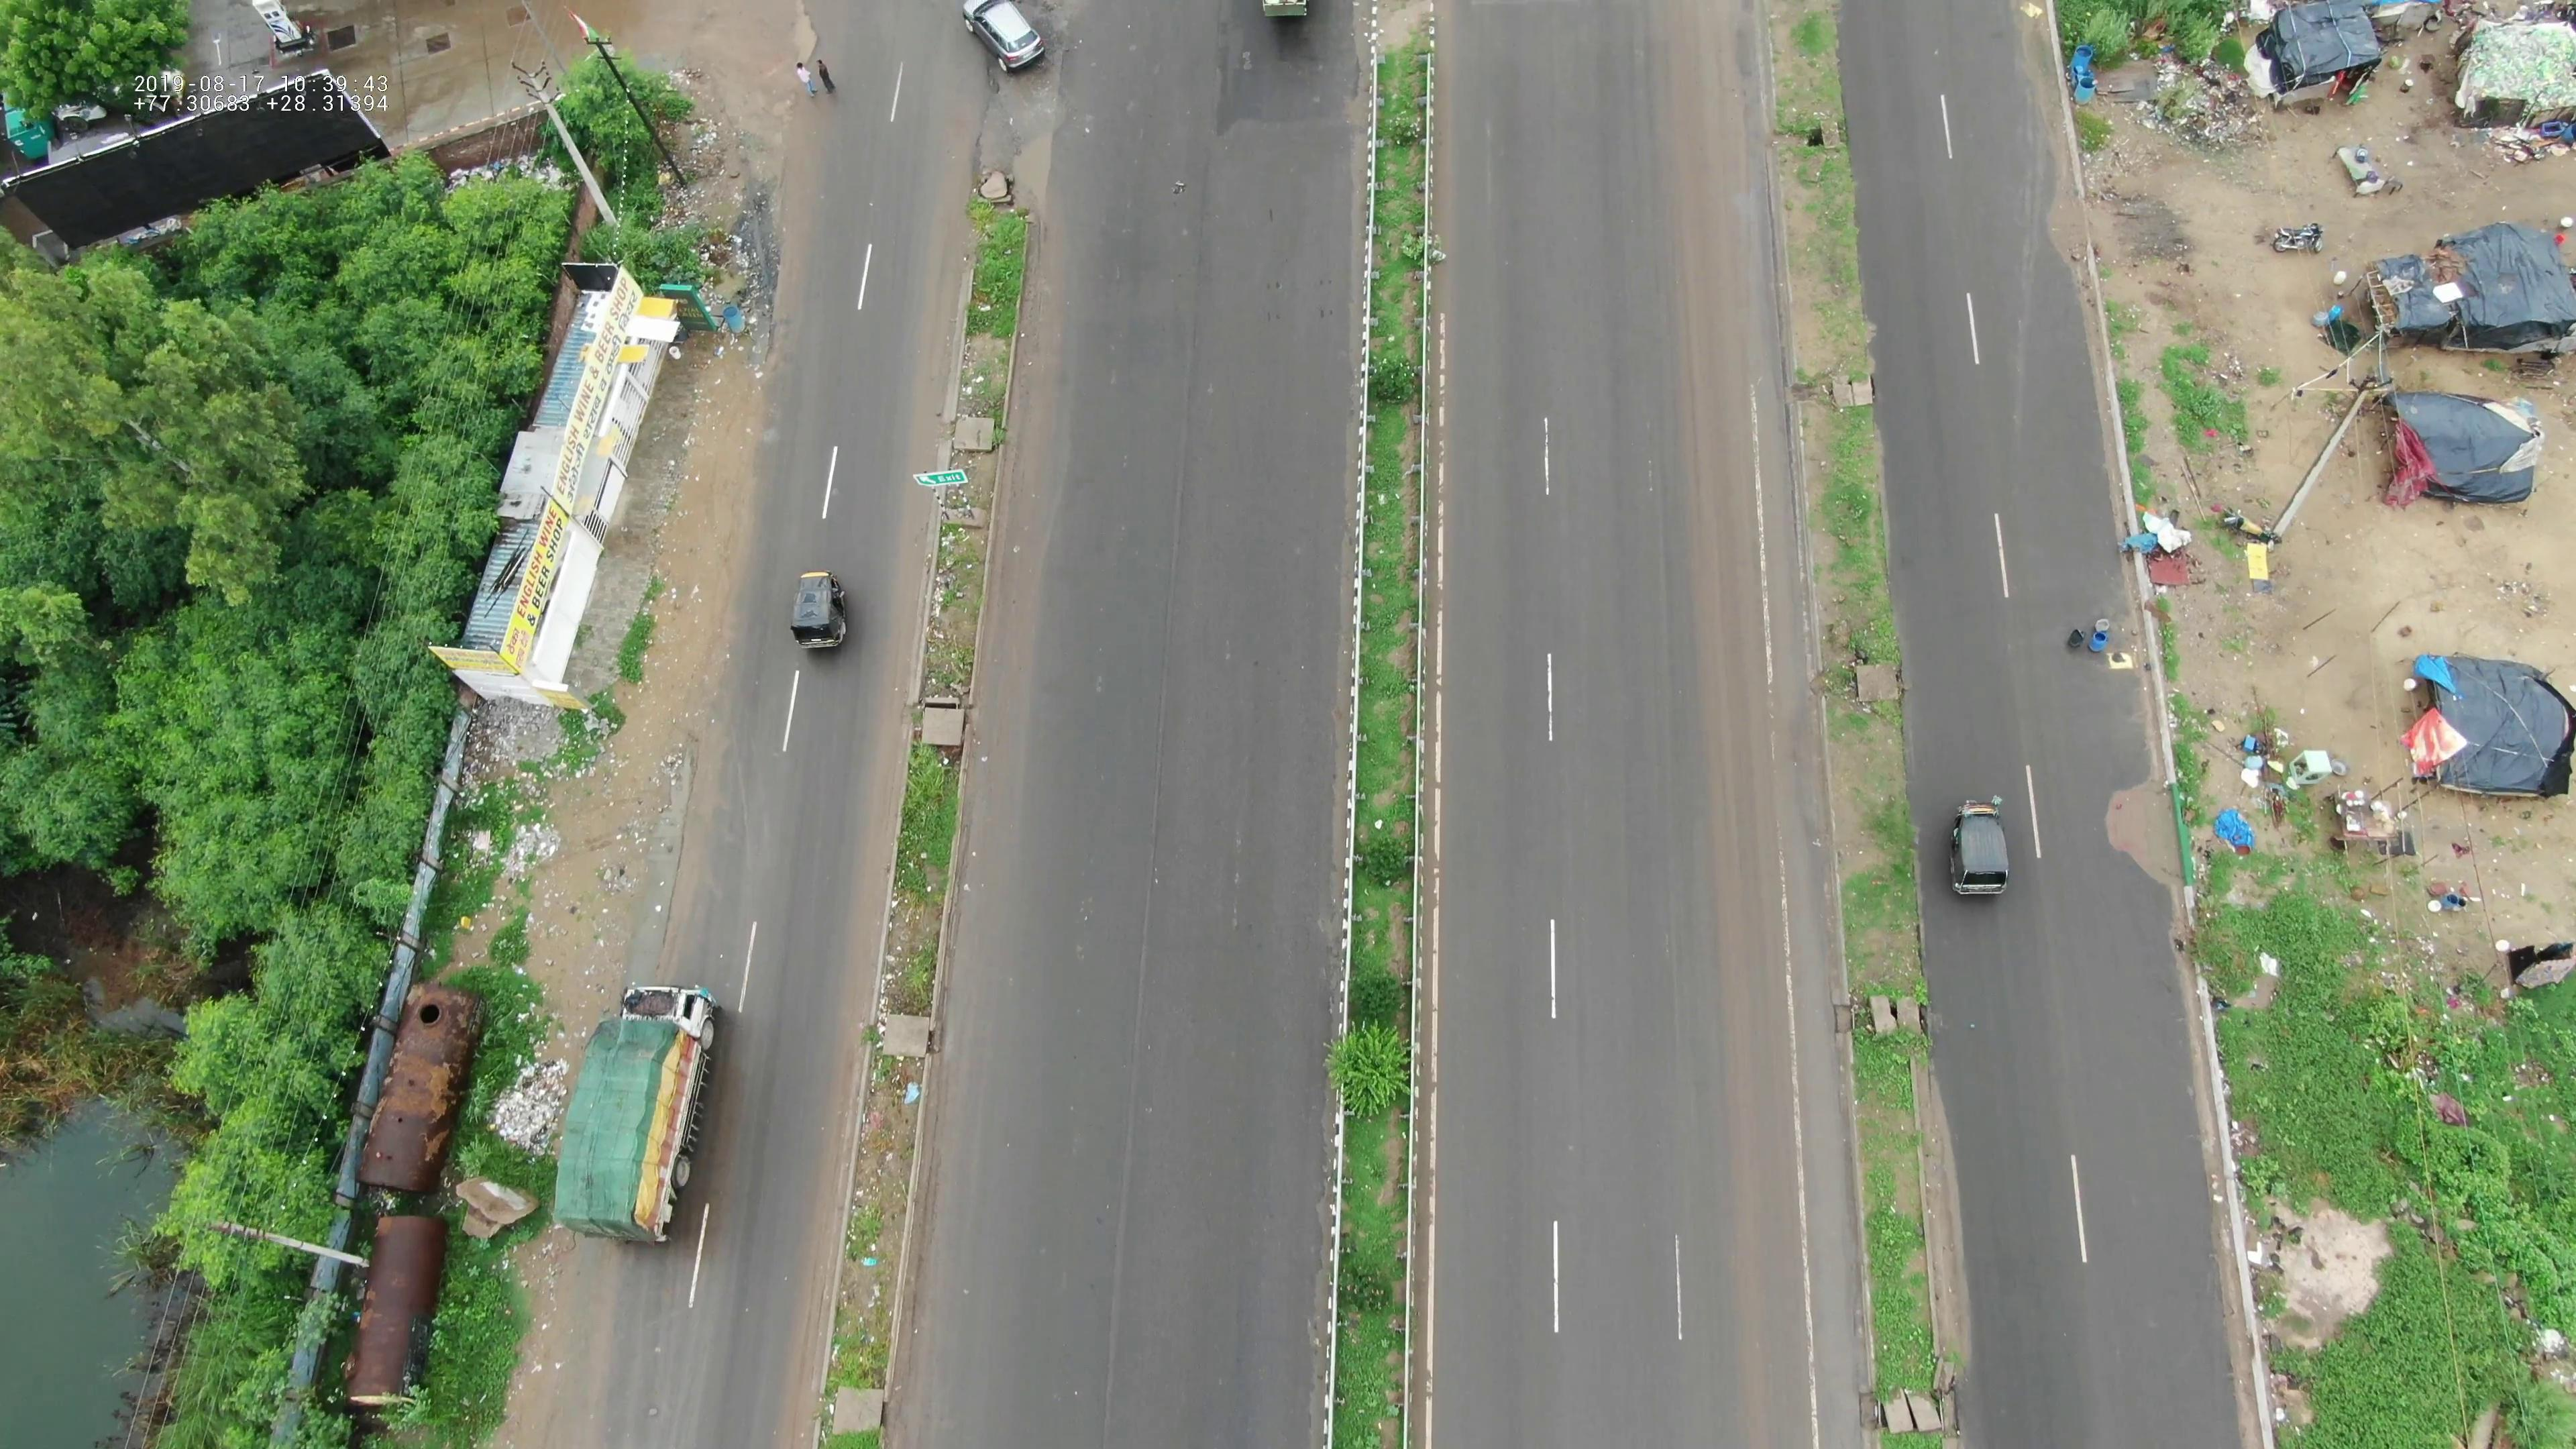Muddy_road: (1668, 326, 1801, 759), (1713, 763, 1805, 1083), (1663, 16, 1767, 290)
